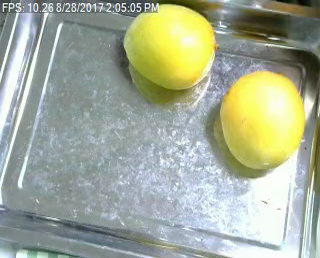Mango: (118, 4, 225, 93), (216, 69, 308, 172)
